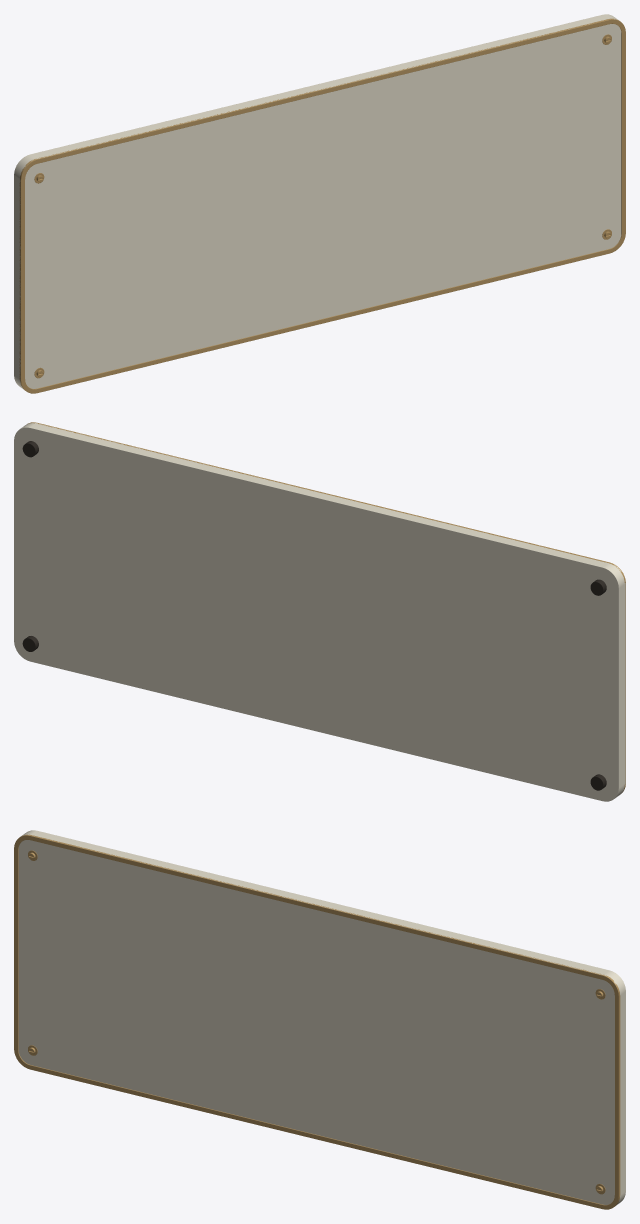
File: wayfinding_plate.glb
3 renders of one model, top to bottom at view 1: azimuth 30°, elevation 25°; view 2: azimuth 150°, elevation 25°; view 3: azimuth 330°, elevation 25°, orthographic.
Visible parts, largest first — view 1: Plate_enamel_appliance, Plate_brass; view 2: Plate_enamel_appliance, Plate_brass, Plate_rubber_aged; view 3: Plate_enamel_appliance, Plate_brass.
Part boxes in pixels (<box>): Plate_enamel_appliance: <box>14,14,621,389</box>; Plate_brass: <box>19,18,625,393</box>; Plate_enamel_appliance: <box>14,423,625,801</box>; Plate_brass: <box>27,422,625,793</box>; Plate_rubber_aged: <box>22,441,606,790</box>; Plate_enamel_appliance: <box>18,830,625,1205</box>; Plate_brass: <box>14,834,620,1209</box>.
Size of the model in its own units: 1.3 by 0.48 by 0.0435.
